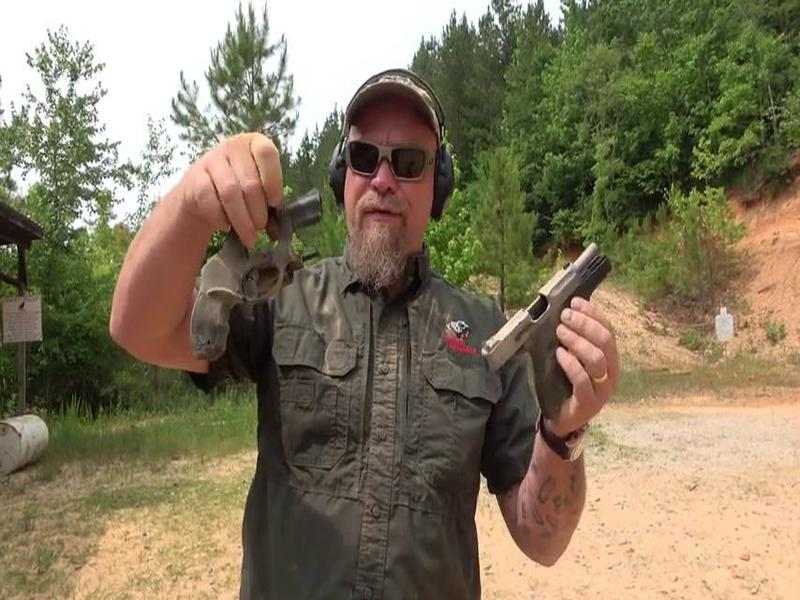Pistola: (466, 240, 640, 441)
Revolver: (160, 180, 328, 371)
